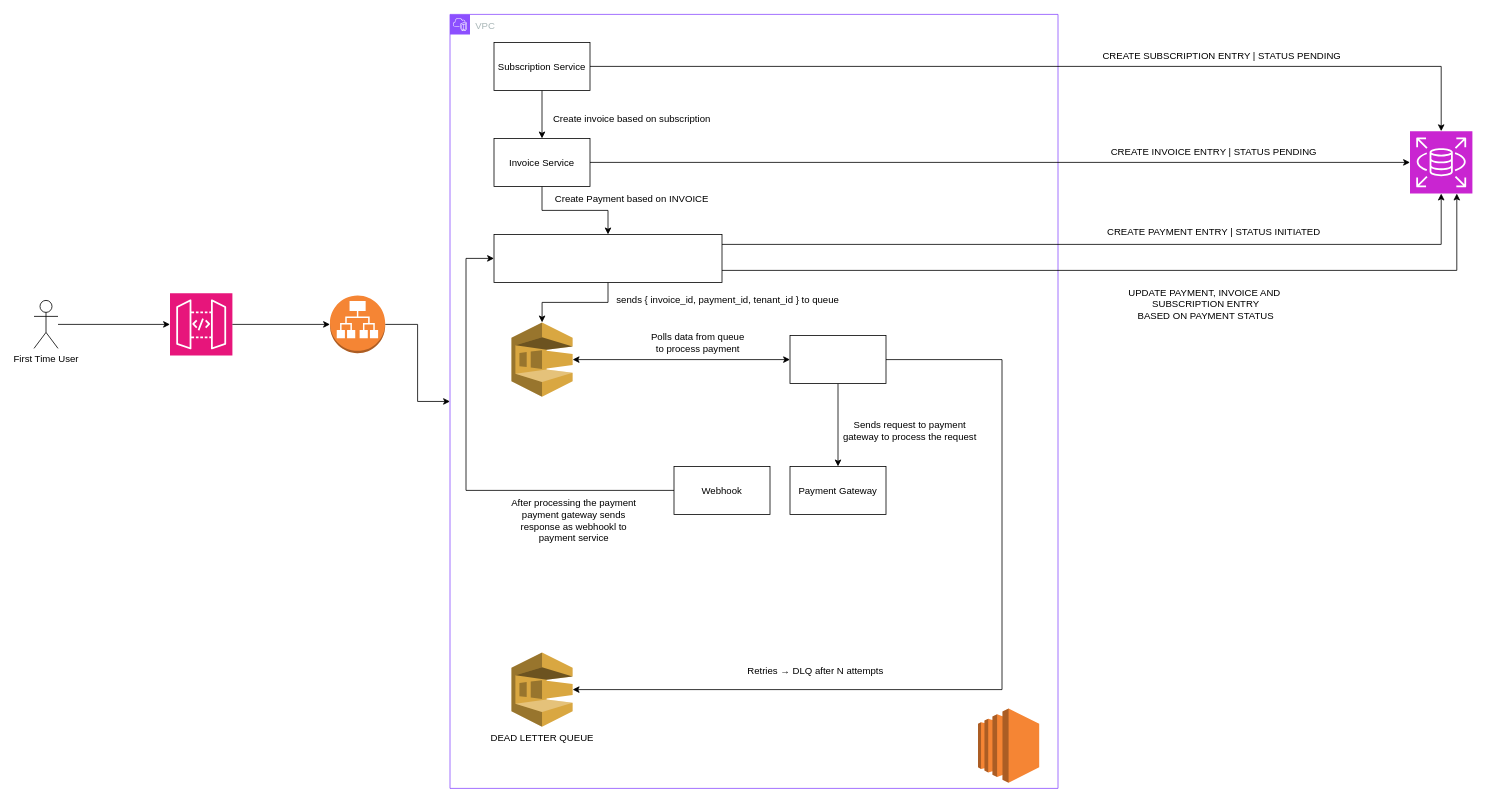
This 1486x802 diagram has some shape labels left out. Each missing label, with the centre of its shape:
"PAYMENT PROCESSING QUEUE" belongs at (542,359).
"Payment Service (Idempotent updates using payment_id / txn_id)" belongs at (607,258).
"Worker Service" belongs at (837,359).
